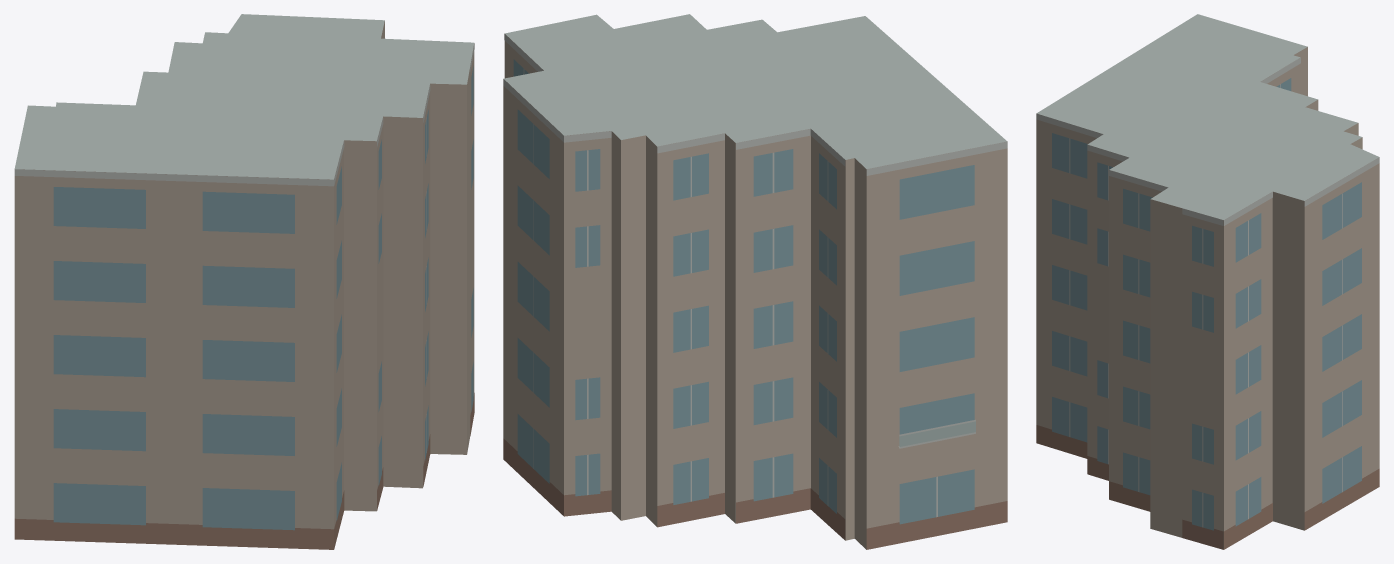
File: survey-upis-32943902.glb
The picture shows the model from 3 angles, left to right: view 1: azimuth 30°, elevation 25°; view 2: azimuth 150°, elevation 25°; view 3: azimuth 270°, elevation 25°; orthographic projection. The views are drawn at different scales.
Visible parts, largest first — view 1: survey-upis-32943902.tmp; view 2: survey-upis-32943902.tmp; view 3: survey-upis-32943902.tmp.
Part boxes in pixels (left/top/right/bottom): survey-upis-32943902.tmp: left=14, top=14, right=474, bottom=549; survey-upis-32943902.tmp: left=503, top=14, right=1007, bottom=549; survey-upis-32943902.tmp: left=1036, top=14, right=1379, bottom=549.
Size of the model in its own units: 17.98 by 13.4 by 12.65.
